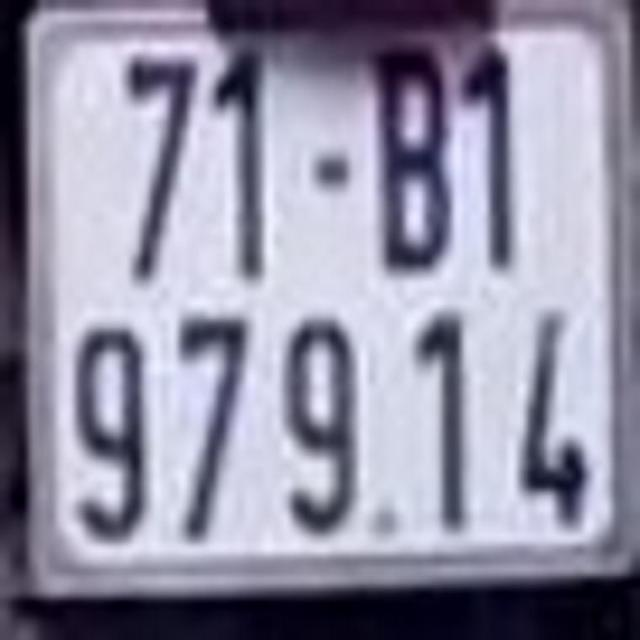1: (454, 36, 528, 271), (210, 44, 278, 276), (411, 302, 469, 534)
4: (516, 300, 592, 530)
7: (172, 310, 252, 540), (120, 51, 196, 280)
9: (276, 300, 363, 532), (69, 320, 147, 537)
B: (370, 41, 449, 272)
